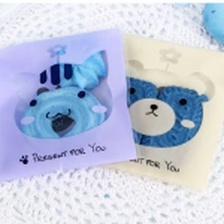snack: (0, 22, 146, 186), (92, 28, 224, 196)
